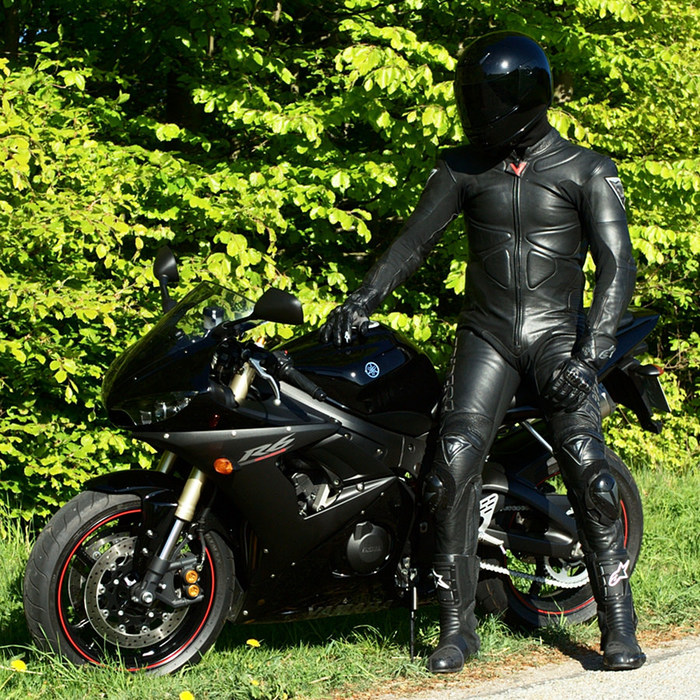h: (452, 29, 561, 168)
